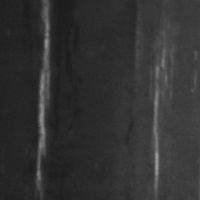scratches: (31, 1, 57, 190), (147, 46, 172, 184)
